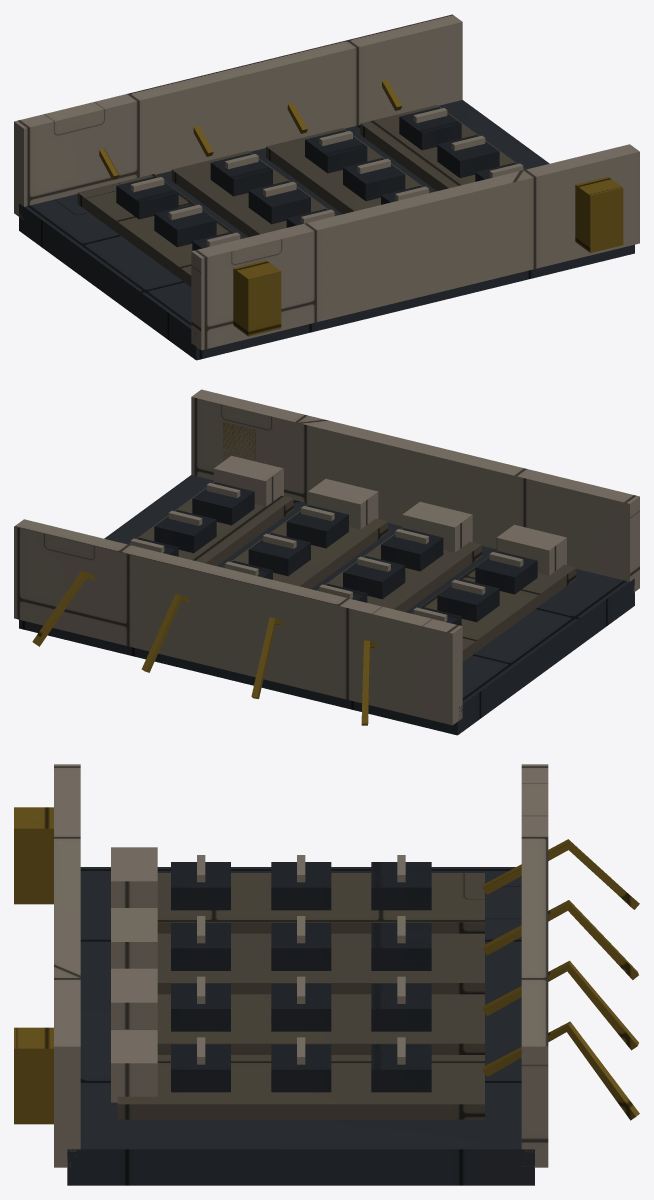
The model's file is cargo-exposed-avionics-tray_lod2.glb.
3 views of the same model, one above another, from view 1: azimuth 30°, elevation 25°; view 2: azimuth 150°, elevation 25°; view 3: azimuth 270°, elevation 25° (orthographic). The views are drawn at different scales.
Parts seen in each view (by area): view 1: LOD2_BrushedMetal, LOD2_Armor, LOD2_Hull, LOD2_MechanicalDark, LOD2_Livery; view 2: LOD2_BrushedMetal, LOD2_Armor, LOD2_MechanicalDark, LOD2_Hull, LOD2_Livery; view 3: LOD2_Hull, LOD2_Armor, LOD2_BrushedMetal, LOD2_MechanicalDark, LOD2_Livery.
Part boxes in pixels (bbox=[...]): LOD2_BrushedMetal: bbox=[14, 14, 639, 350]; LOD2_Armor: bbox=[19, 100, 634, 360]; LOD2_Hull: bbox=[77, 105, 525, 286]; LOD2_MechanicalDark: bbox=[116, 107, 524, 250]; LOD2_Livery: bbox=[99, 79, 623, 336]; LOD2_BrushedMetal: bbox=[14, 389, 639, 725]; LOD2_Armor: bbox=[19, 475, 634, 735]; LOD2_MechanicalDark: bbox=[129, 482, 537, 625]; LOD2_Hull: bbox=[128, 482, 576, 661]; LOD2_Livery: bbox=[32, 422, 377, 725]; LOD2_Hull: bbox=[117, 873, 484, 1119]; LOD2_Armor: bbox=[67, 867, 534, 1185]; LOD2_BrushedMetal: bbox=[54, 764, 548, 1167]; LOD2_MechanicalDark: bbox=[171, 862, 431, 1092]; LOD2_Livery: bbox=[14, 807, 639, 1124].
Size of the model in its own units: 2 by 0.46 by 1.87.
5 materials, 5 textured.
